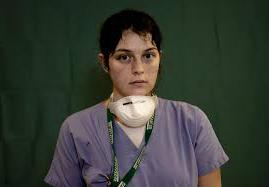mask_weared_incorrect: (110, 47, 157, 113)
